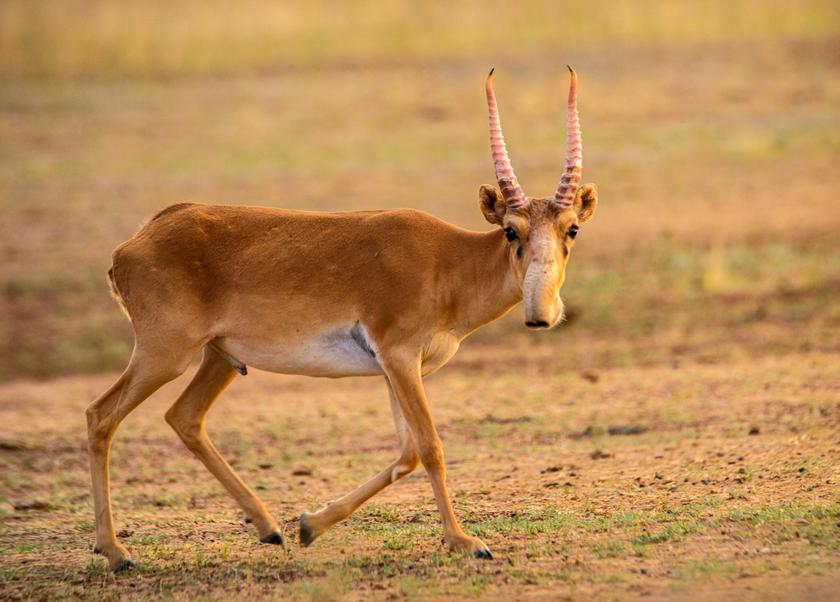saiga: (84, 66, 601, 569)
